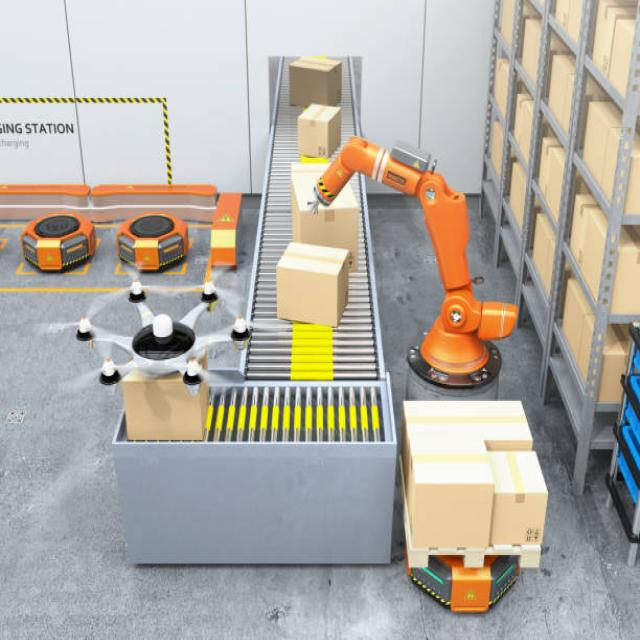Robotic-arm: (309, 132, 514, 388)
